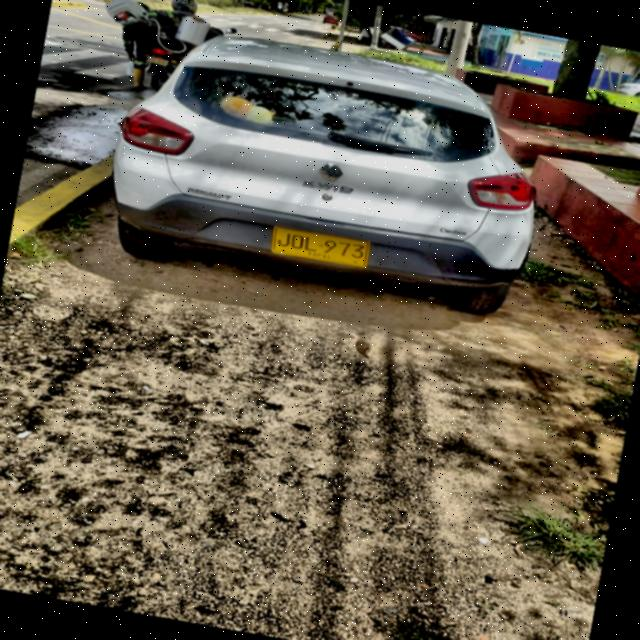plate: (272, 226, 368, 267)
